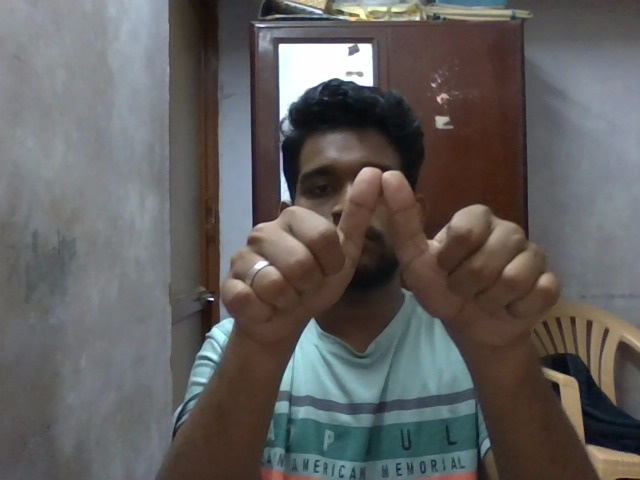A: (206, 162, 566, 368)
